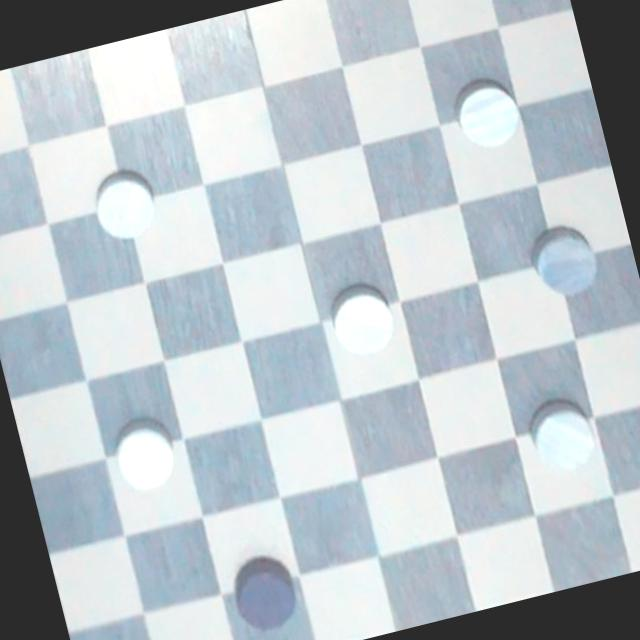BOARD: (0, 0, 640, 640)
black: (221, 546, 310, 640)
white: (520, 208, 610, 315), (516, 384, 608, 484), (442, 60, 532, 159), (322, 274, 411, 374), (102, 406, 189, 505), (83, 160, 169, 248)
